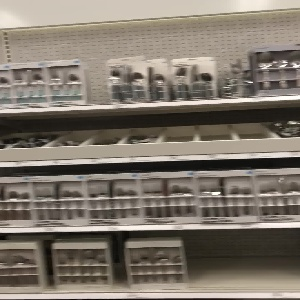void: (183, 228, 300, 292)
